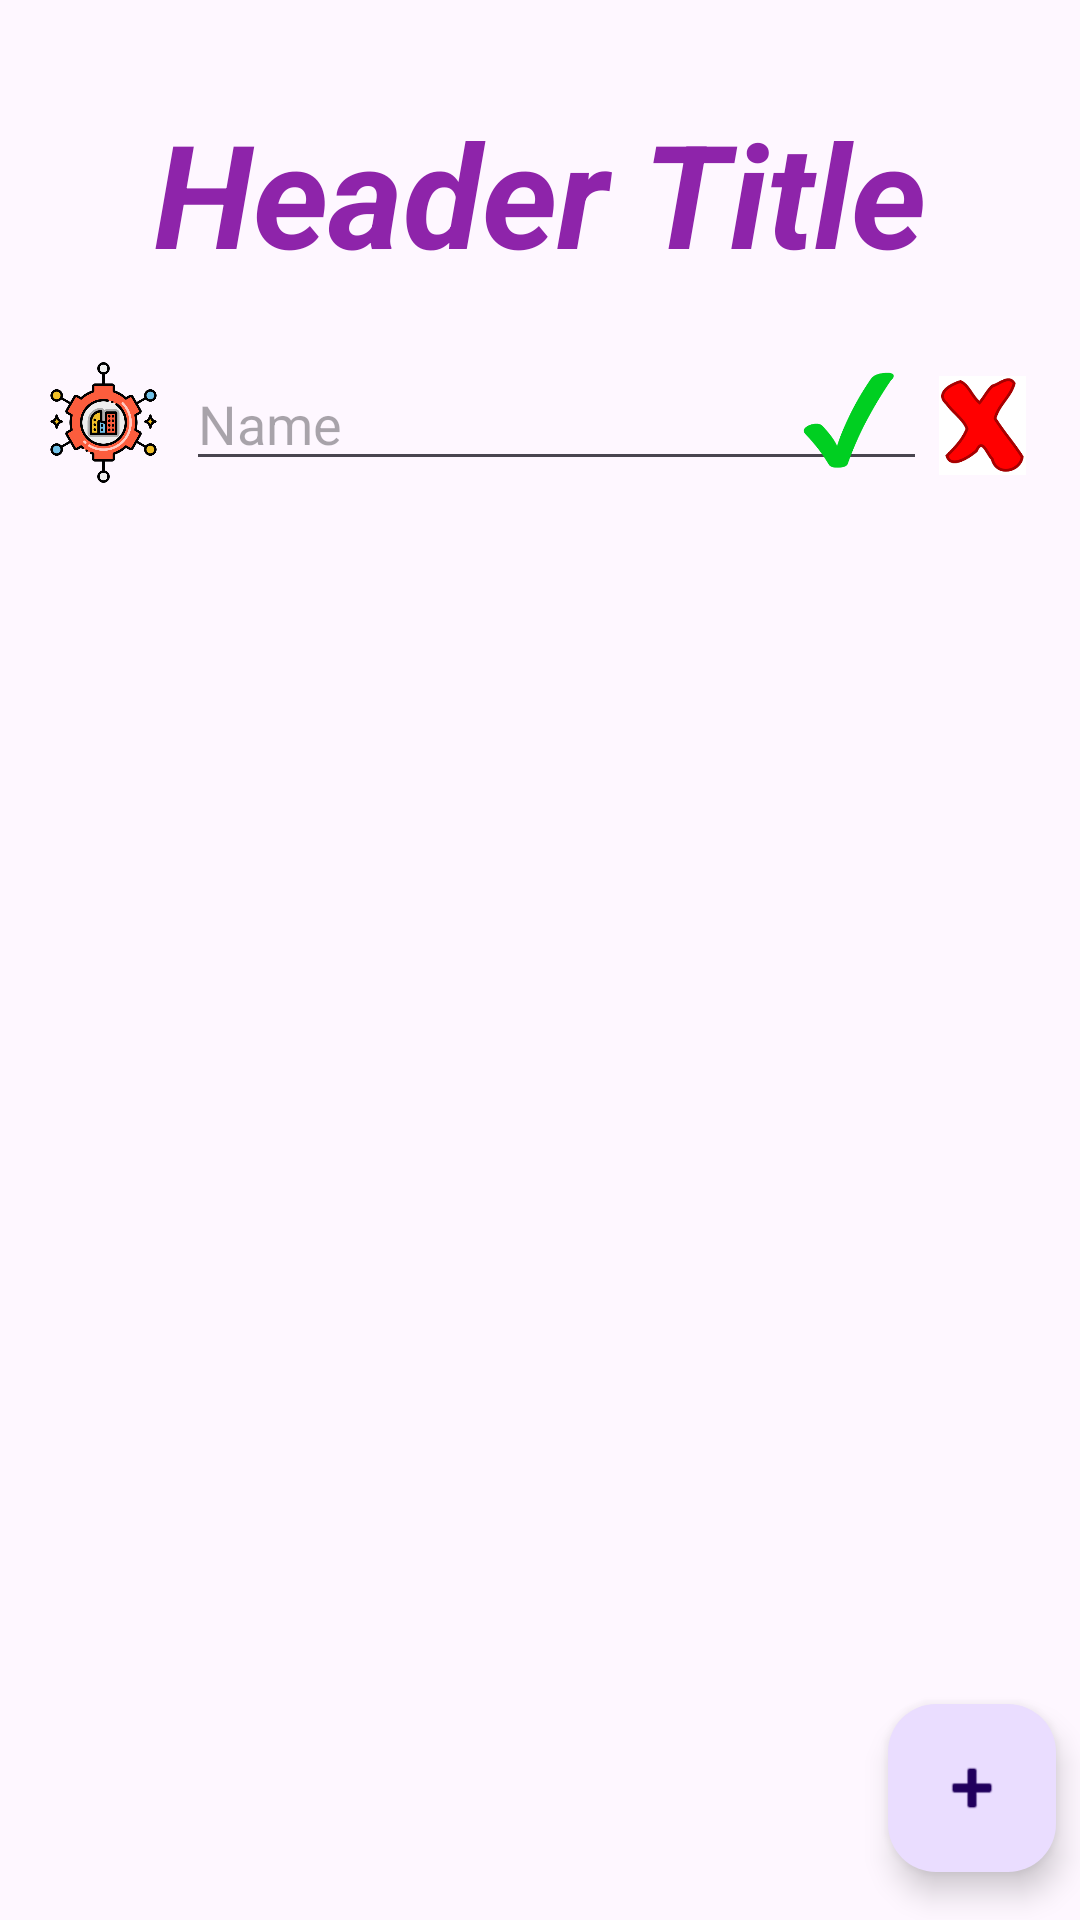

Named icons in this screenshot (1080x1920) and their bounding boxes, bbox=[x1, y1, x2, y2]:
add: bbox=[888, 1704, 1056, 1872]
infrastructure: bbox=[50, 362, 157, 483]
not ok: bbox=[941, 378, 1024, 472]
